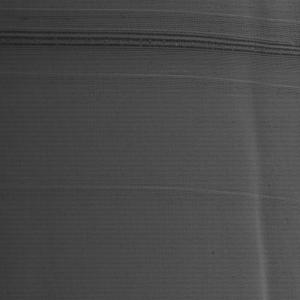Wrinkle: (240, 1, 285, 300)
